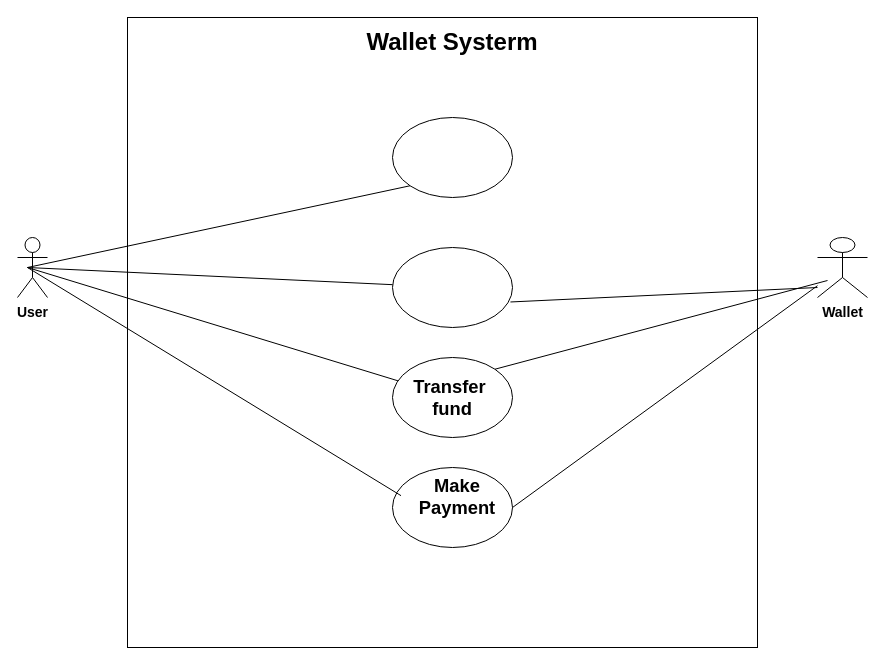
Image size: 885x665. Some labels were removed from this diagram. The centre of each missing label's shape, as x and y in pixels:
"Check Balance" goes at pixel 452 287.
"User Register" goes at pixel 452 157.
